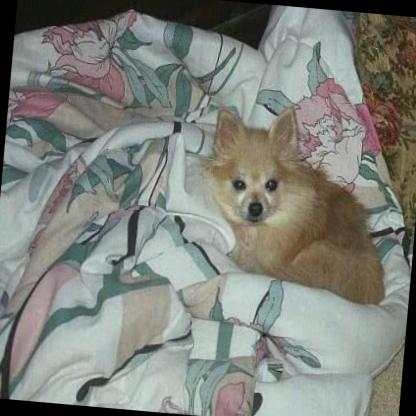Pomeranian: (196, 98, 400, 307)
